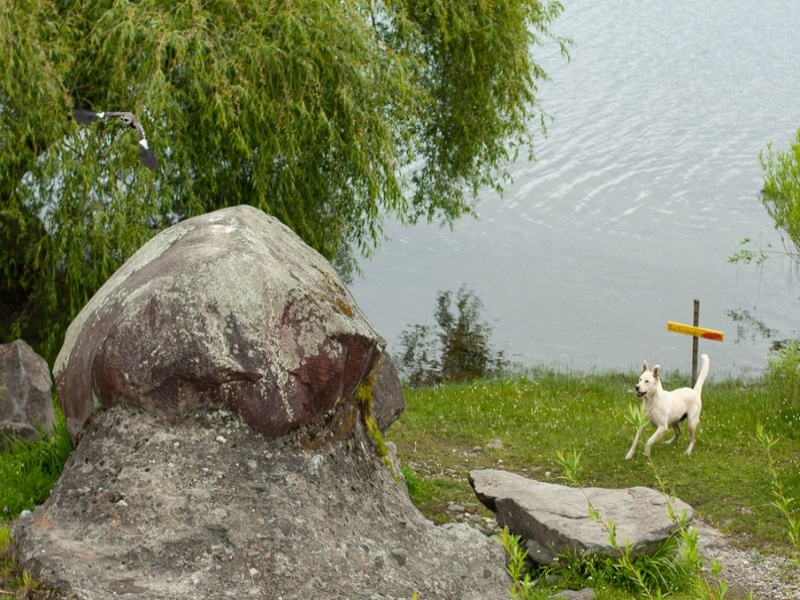dog: (626, 353, 709, 465)
